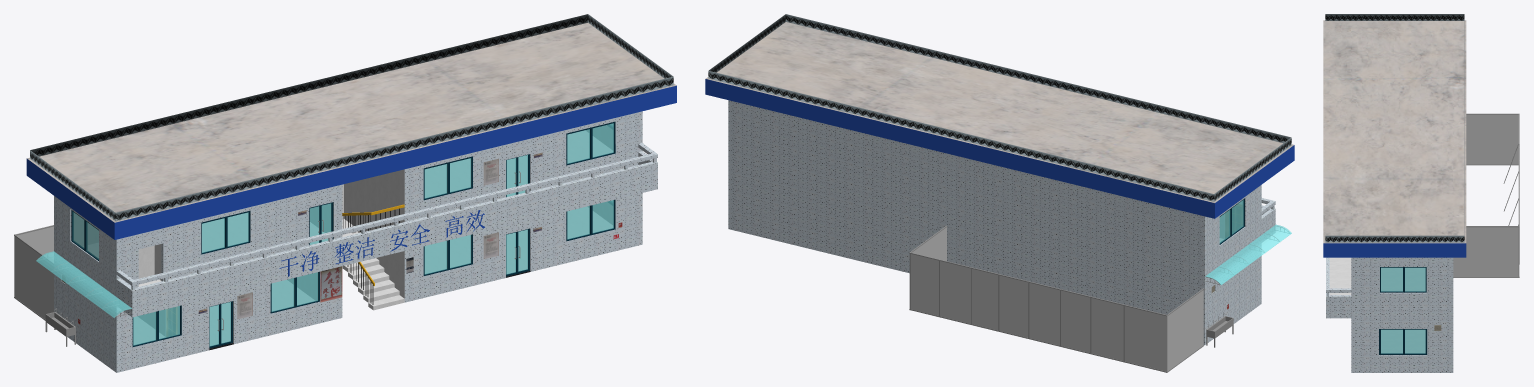
The model's file is CK-2haobangonglou01-JZ.FBX.
The picture shows the model from 3 angles, left to right: view 1: azimuth 30°, elevation 25°; view 2: azimuth 150°, elevation 25°; view 3: azimuth 270°, elevation 25°; orthographic projection. The views are drawn at different scales.
Parts seen in each view (by area): view 1: main, ding, erlou; view 2: main, ding; view 3: ding, main, erlou.
Boxes of the visible parts, box(x1,y1,x2,y2) form: main: box(14, 14, 676, 372); ding: box(27, 23, 676, 222); erlou: box(83, 130, 612, 286); main: box(705, 14, 1294, 372); ding: box(705, 22, 1293, 202); ding: box(1323, 20, 1466, 243); main: box(1323, 14, 1519, 372); erlou: box(1381, 268, 1425, 290).
Size of the model in its own units: 29.17 by 8.81 by 10.84.
15 materials, 12 textured.
